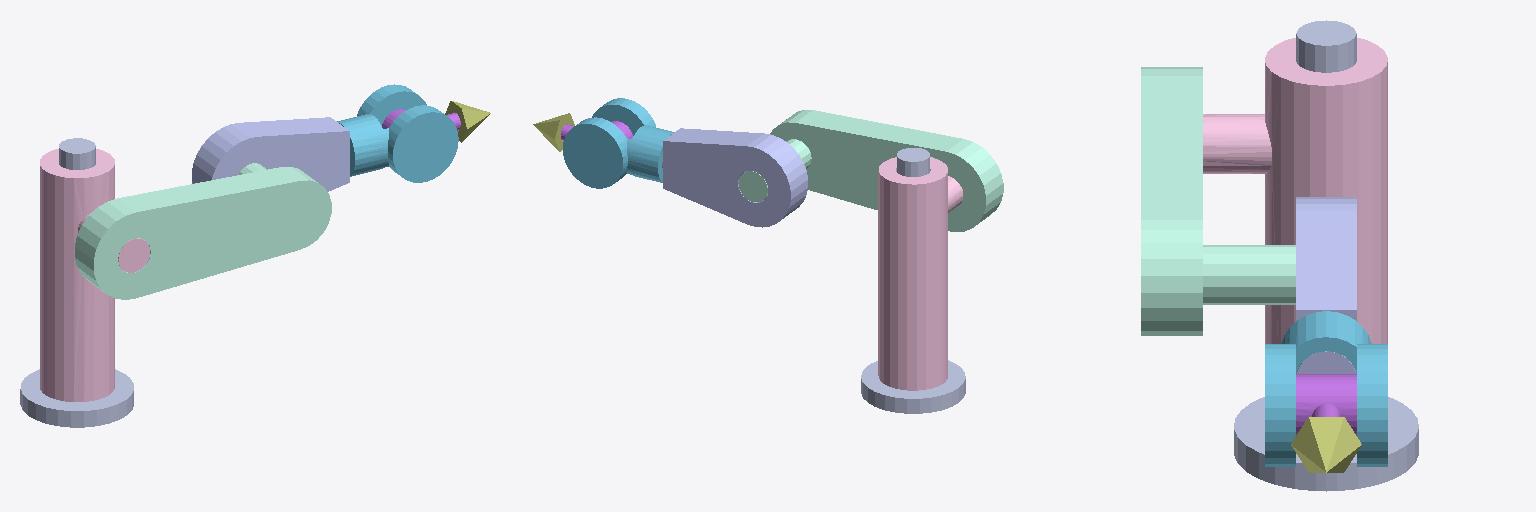
robot.urdf — man_urdf:
<?xml version="1.0" encoding="utf-8"?>
<!-- This URDF was automatically created by SolidWorks to URDF Exporter! Originally created by [author] ([email redacted])
     Commit Version: 1.6.0-1-g15f4949  Build Version: 1.6.7594.29634
     For more information, please see http://wiki.ros.org/sw_urdf_exporter -->
<robot
  name="man_urdf">
  <link name="world"/>
  <link
    name="L0">
    <inertial>
      <origin
        xyz="-2.77555756156289E-17 1.38777878078145E-17 0.251308543489449"
        rpy="0 0 0" />
      <mass
        value="8.58391105208198" />
      <inertia
        ixx="0.521593432983479"
        ixy="0"
        ixz="4.10570392569217E-17"
        iyy="0.521593432983479"
        iyz="-1.43136405786465E-32"
        izz="0.0439830975047331" />
    </inertial>
    <visual>
      <origin
        xyz="0 0 0"
        rpy="0 0 0" />
      <geometry>
        <mesh
          filename="package://man_urdf/meshes/L0.STL" />
      </geometry>
      <material
        name="">
        <color
          rgba="0.792156862745098 0.819607843137255 0.933333333333333 1" />
      </material>
    </visual>
    <collision>
      <origin
        xyz="0 0 0"
        rpy="0 0 0" />
      <geometry>
        <mesh
          filename="package://man_urdf/meshes/L0.STL" />
      </geometry>
    </collision>
  </link>
  <joint
    name="J0"
    type="fixed">
    <origin
      xyz="0 0 0"
      rpy="0 0 0" />
    <parent
      link="world" />
    <child
      link="L0" />
    <axis
      xyz="0 0 1" />
    <limit
      lower="-3.1416"
      upper="3.1416"
      effort="10000"
      velocity="100" />
  </joint>
  <link
    name="L1">
    <inertial>
      <origin
        xyz="2.83887343077716E-08 -0.0178750899362703 -0.159236806529472"
        rpy="0 0 0" />
      <mass
        value="16.8313777816089" />
      <inertia
        ixx="0.689772480581919"
        ixy="2.28727857677598E-08"
        ixz="-2.27577952071559E-07"
        iyy="0.631143643333626"
        iyz="0.0479077343963207"
        izz="0.156178494391246" />
    </inertial>
    <visual>
      <origin
        xyz="0 0 0"
        rpy="0 0 0" />
      <geometry>
        <mesh
          filename="package://man_urdf/meshes/L1.STL" />
      </geometry>
      <material
        name="">
        <color
          rgba="1 0.819607843137255 0.933333333333333 1" />
      </material>
    </visual>
    <collision>
      <origin
        xyz="0 0 0"
        rpy="0 0 0" />
      <geometry>
        <mesh
          filename="package://man_urdf/meshes/L1.STL" />
      </geometry>
    </collision>
  </link>
  <joint
    name="J1"
    type="revolute">
    <origin
      xyz="0 0 0.55"
      rpy="0 0 0" />
    <parent
      link="L0" />
    <child
      link="L1" />
    <axis
      xyz="0 0 1" />
    <limit
      lower="-3.1416"
      upper="3.1416"
      effort="10000"
      velocity="100" />
  </joint>
  <link
    name="L2">
    <inertial>
      <origin
        xyz="0.266754722157752 0 0.230046531880633"
        rpy="0 0 0" />
      <mass
        value="16.370380678601" />
      <inertia
        ixx="0.134812941774803"
        ixy="-2.66274557242285E-17"
        ixz="0.0761886064644828"
        iyy="0.734239754509835"
        iyz="1.40933669931598E-17"
        izz="0.724145816763749" />
    </inertial>
    <visual>
      <origin
        xyz="0 0 0"
        rpy="0 0 0" />
      <geometry>
        <mesh
          filename="package://man_urdf/meshes/L2.STL" />
      </geometry>
      <material
        name="">
        <color
          rgba="0.792156862745098 1 0.933333333333333 1" />
      </material>
    </visual>
    <collision>
      <origin
        xyz="0 0 0"
        rpy="0 0 0" />
      <geometry>
        <mesh
          filename="package://man_urdf/meshes/L2.STL" />
      </geometry>
    </collision>
  </link>
  <joint
    name="J2"
    type="revolute">
    <origin
      xyz="0 0 0"
      rpy="1.5708 0 0" />
    <parent
      link="L1" />
    <child
      link="L2" />
    <axis
      xyz="0 0 1" />
    <limit
      lower="-1.5708"
      upper="1.5708"
      effort="10000"
      velocity="100" />
  </joint>
  <link
    name="L3">
    <inertial>
      <origin
        xyz="0 -0.112376756749049 -4.16333634234434E-17"
        rpy="0 0 0" />
      <mass
        value="8.41901264308844" />
      <inertia
        ixx="0.154818236954621"
        ixy="-3.62937528884453E-17"
        ixz="-8.85398612101813E-19"
        iyy="0.0380822097268156"
        iyz="-1.93424736843363E-17"
        izz="0.179225930646112" />
    </inertial>
    <visual>
      <origin
        xyz="0 0 0"
        rpy="0 0 0" />
      <geometry>
        <mesh
          filename="package://man_urdf/meshes/L3.STL" />
      </geometry>
      <material
        name="">
        <color
          rgba="0.792156862745098 0.819607843137255 1 1" />
      </material>
    </visual>
    <collision>
      <origin
        xyz="0 0 0"
        rpy="0 0 0" />
      <geometry>
        <mesh
          filename="package://man_urdf/meshes/L3.STL" />
      </geometry>
    </collision>
  </link>
  <joint
    name="J3"
    type="revolute">
    <origin
      xyz="0.5 0 0"
      rpy="0 0 1.5708" />
    <parent
      link="L2" />
    <child
      link="L3" />
    <axis
      xyz="0 0 1" />
    <limit
      lower="-1.5708"
      upper="1.5708"
      effort="10000"
      velocity="100" />
  </joint>
  <link
    name="L4">
    <inertial>
      <origin
        xyz="-3.49246999764574E-07 -1.92054451633727E-07 -0.0344320239635494"
        rpy="0 0 0" />
      <mass
        value="4.31368808813062" />
      <inertia
        ixx="0.046306035676263"
        ixy="1.33899030712816E-07"
        ixz="2.46671103312782E-08"
        iyy="0.0356858333371746"
        iyz="-1.46848990830211E-07"
        izz="0.0304029387728525" />
    </inertial>
    <visual>
      <origin
        xyz="0 0 0"
        rpy="0 0 0" />
      <geometry>
        <mesh
          filename="package://man_urdf/meshes/L4.STL" />
      </geometry>
      <material
        name="">
        <color
          rgba="0.5 0.819607843137255 0.933333333333333 1" />
      </material>
    </visual>
    <collision>
      <origin
        xyz="0 0 0"
        rpy="0 0 0" />
      <geometry>
        <mesh
          filename="package://man_urdf/meshes/L4.STL" />
      </geometry>
    </collision>
  </link>
  <joint
    name="J4"
    type="revolute">
    <origin
      xyz="0 -0.5 0"
      rpy="1.5708 0 0" />
    <parent
      link="L3" />
    <child
      link="L4" />
    <axis
      xyz="0 0 1" />
    <limit
      lower="-3.1416"
      upper="3.1416"
      effort="100"
      velocity="100" />
  </joint>
  <link
    name="L5">
    <inertial>
      <origin
        xyz="6.83871559381544E-09 -0.0305734791822949 -3.70412332750814E-08"
        rpy="0 0 0" />
      <mass
        value="0.793971101412226" />
      <inertia
        ixx="0.00315651901404138"
        ixy="1.83991622804642E-10"
        ixz="2.39350805523045E-10"
        iyy="0.00096585390013851"
        iyz="-2.25178105054635E-09"
        izz="0.00315072678838859" />
    </inertial>
    <visual>
      <origin
        xyz="0 0 0"
        rpy="0 0 0" />
      <geometry>
        <mesh
          filename="package://man_urdf/meshes/L5.STL" />
      </geometry>
      <material
        name="">
        <color
          rgba="0.792156862745098 0.5 0.933333333333333 1" />
      </material>
    </visual>
    <collision>
      <origin
        xyz="0 0 0"
        rpy="0 0 0" />
      <geometry>
        <mesh
          filename="package://man_urdf/meshes/L5.STL" />
      </geometry>
    </collision>
  </link>
  <joint
    name="J5"
    type="revolute">
    <origin
      xyz="0 0 0"
      rpy="-1.5708 0 0" />
    <parent
      link="L4" />
    <child
      link="L5" />
    <axis
      xyz="0 0 1" />
    <limit
      lower="-1.5708"
      upper="1.5708"
      effort="100"
      velocity="100" />
  </joint>
  <link
    name="L6">
    <inertial>
      <origin
        xyz="0 8.32667268468867E-17 0.179502718586101"
        rpy="0 0 0" />
      <mass
        value="0.260445526746461" />
      <inertia
        ixx="0.000240259603757247"
        ixy="6.91705639679729E-20"
        ixz="4.87341293492895E-20"
        iyy="0.000240259603757247"
        iyz="2.23501304756425E-20"
        izz="0.000242604285420145" />
    </inertial>
    <visual>
      <origin
        xyz="0 0 0"
        rpy="0 0 0" />
      <geometry>
        <mesh
          filename="package://man_urdf/meshes/L6.STL" />
      </geometry>
      <material
        name="">
        <color
          rgba="0.792156862745098 0.819607843137255 0.5 1" />
      </material>
    </visual>
    <collision>
      <origin
        xyz="0 0 0"
        rpy="0 0 0" />
      <geometry>
        <mesh
          filename="package://man_urdf/meshes/L6.STL" />
      </geometry>
    </collision>
  </link>
  <joint
    name="J6"
    type="continuous">
    <origin
      xyz="0 0 0"
      rpy="1.5708 0 0" />
    <parent
      link="L5" />
    <child
      link="L6" />
    <axis
      xyz="0 0 1" />
    <limit
      effort="100"
      velocity="100" />
  </joint>
</robot>

--- Facts derived from the render (not from the file) ---
Views: 3 orthographic renders of the robot side by side, from view 1: azimuth 30°, elevation 25°; view 2: azimuth 150°, elevation 25°; view 3: azimuth 270°, elevation 25°.
Robot: man_urdf — 8 links, 7 joints (5 revolute, 1 continuous, 1 fixed); root link world; default pose: every joint at zero.
Links seen in each view (by area): view 1: L2, L1, L3, L4, L0, L6; view 2: L1, L2, L3, L4, L0, L6; view 3: L1, L2, L4, L0, L3, L6, L5.
Boxes of the visible links, x1,y1,x2,y2 form: L2: [75, 163, 331, 299]; L1: [40, 149, 149, 401]; L3: [192, 117, 349, 191]; L4: [337, 84, 458, 182]; L0: [20, 138, 133, 427]; L6: [445, 101, 490, 142]; L1: [878, 157, 963, 390]; L2: [738, 110, 1003, 231]; L3: [662, 128, 807, 227]; L4: [563, 98, 674, 188]; L0: [861, 148, 965, 413]; L6: [533, 113, 574, 151]; L1: [1203, 38, 1387, 343]; L2: [1141, 67, 1295, 335]; L4: [1265, 311, 1387, 466]; L0: [1234, 20, 1418, 491]; L3: [1296, 197, 1356, 373]; L6: [1291, 417, 1361, 472]; L5: [1296, 374, 1356, 435].
Bounding box of the posed robot: 1.41 × 0.4497 × 0.7475 m (x, y, z).
Meshes: 7 distinct files referenced, 7 mesh visuals loaded (7 binary STL).